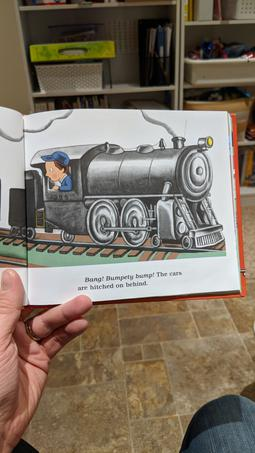text block: (72, 267, 186, 297)
